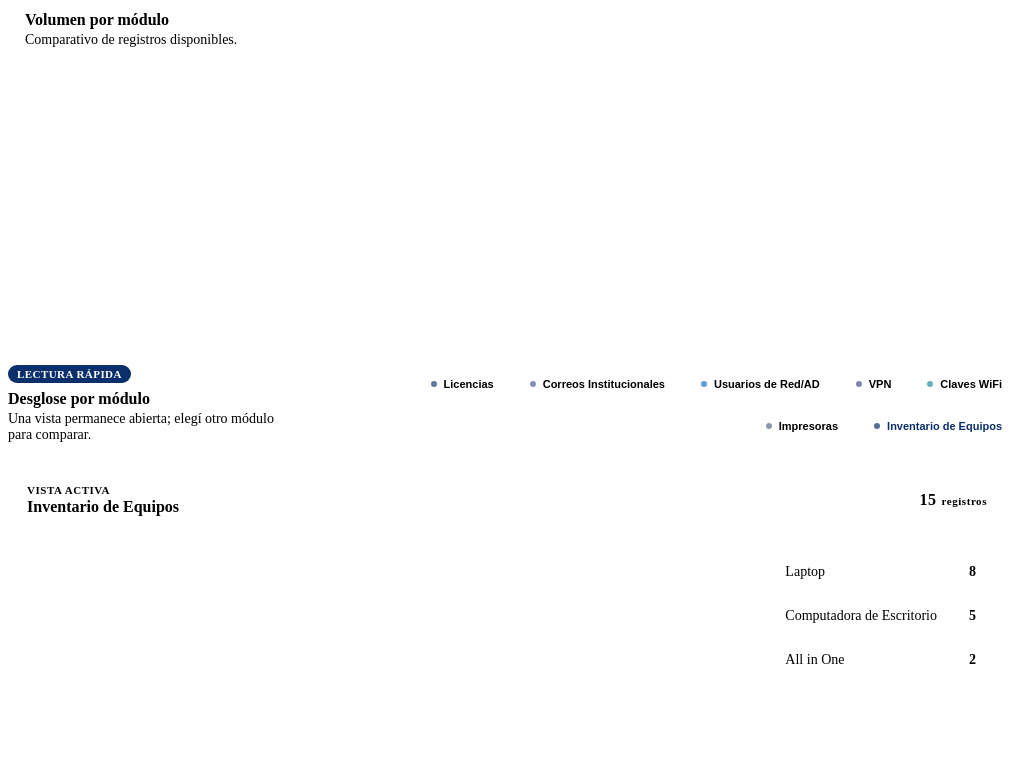
DashboardComponent › selecting a module pill fetches its breakdown and renders the panel
This screenshot has width=1024, height=768.
(page scrolled)
Click the tab with class "modulo-pill" showing "VPN": (874, 384) [842, 367, 905, 401]
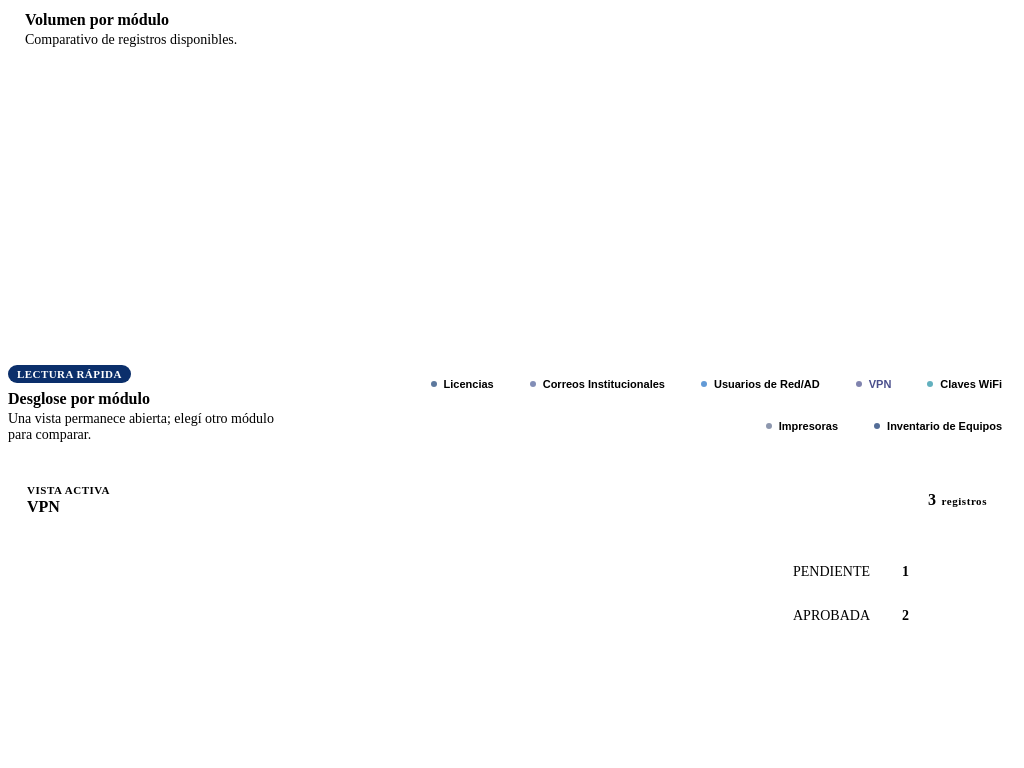
Expected: the number of elements with class "modulo-breakdown-row" is 2, [793, 564, 909, 579]; [793, 608, 909, 623]
Expected: the element with class "modulo-breakdown-row" shows "PENDIENTE", [793, 564, 870, 579]
Expected: the element with class "modulo-breakdown-row" shows "1", [902, 564, 909, 579]
